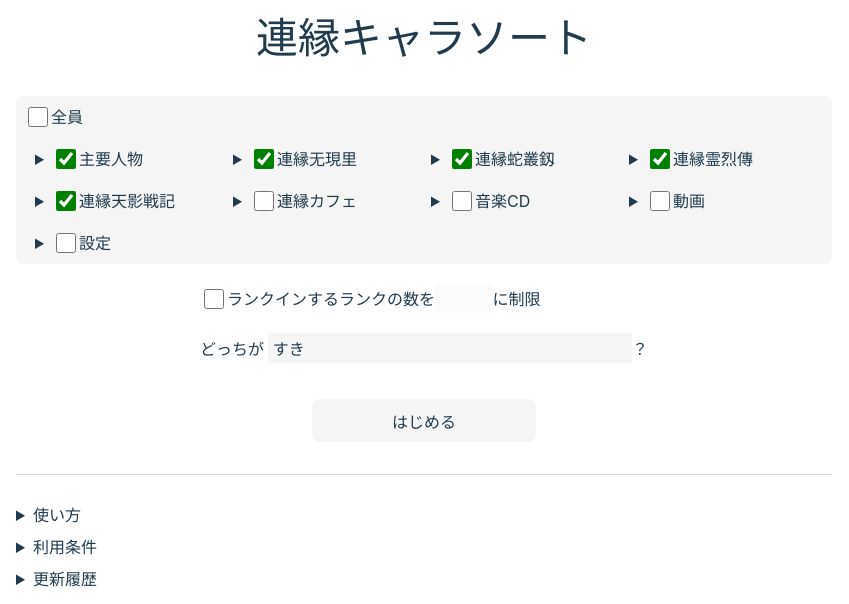
Test: キャラソートのタイトル入力 › 入力欄を空にする
Clear the field at (450, 348), box [268,333,632,363]
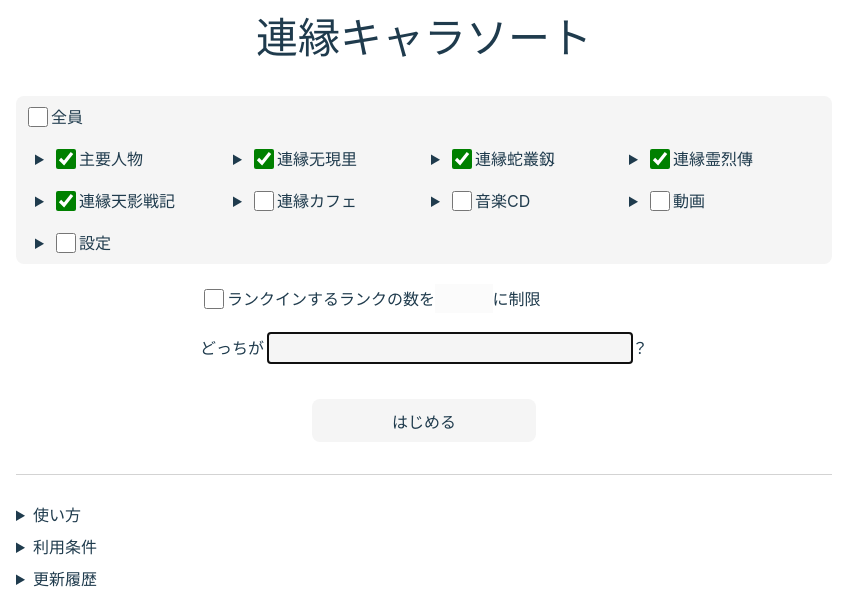
Click the checkbox labelled "全員" at (38, 117), box [28,107,48,127]
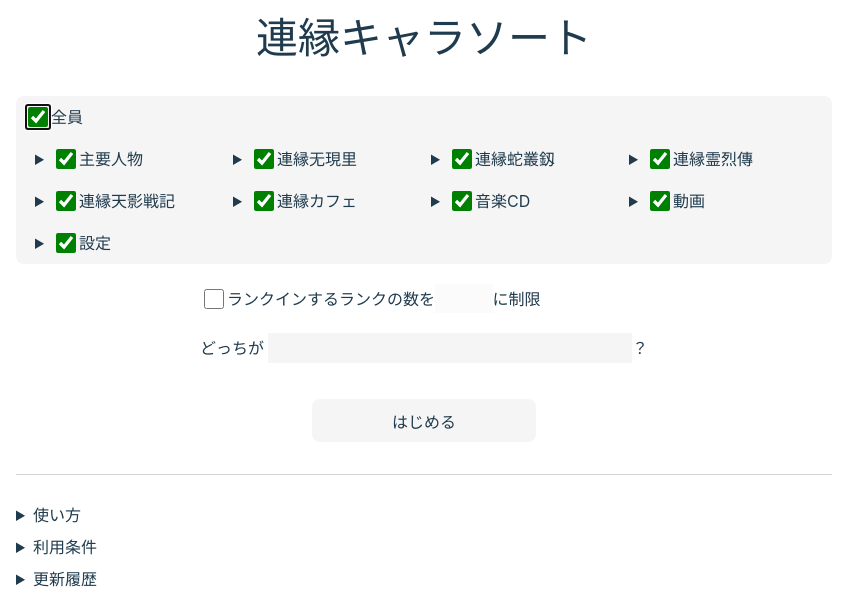
Click the button "はじめる" at (424, 420), box [312,399,536,442]
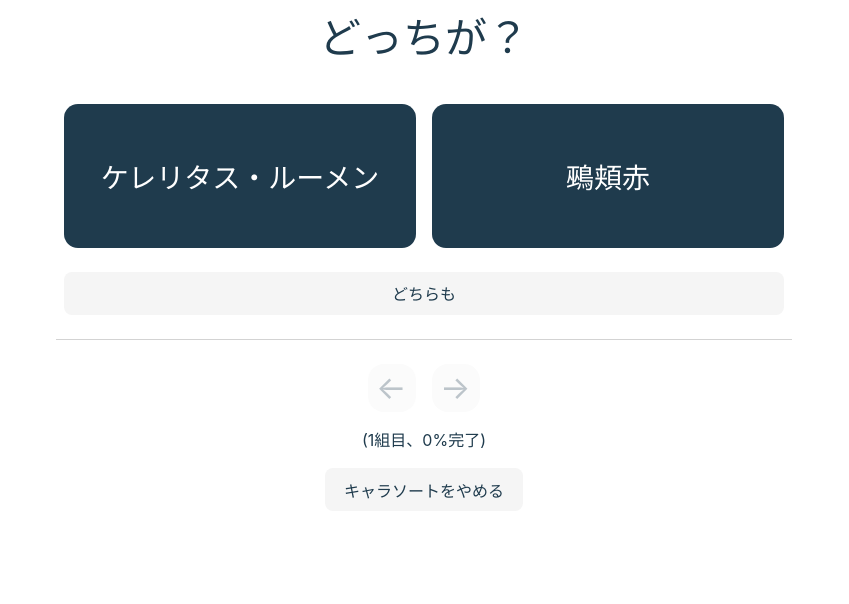
Now the heading "どっちが？" is shown, box [319,17,529,59]
